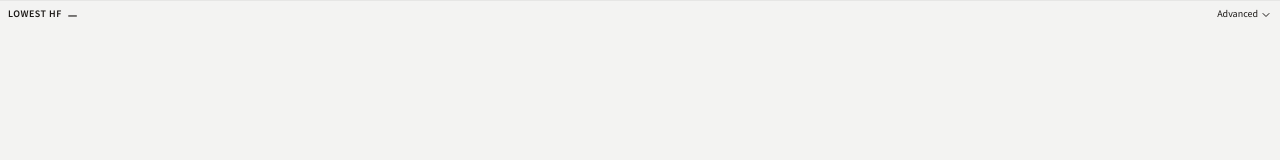
Test: PortfolioSummaryBar — eMode fallback notice (AAV-1399) › B1: shows the base-LTV notice when a pool fell back from a known eMode category
Click the button with test id "portfolio-advanced-toggle".
click(1245, 15)  # box [1217,8,1272,21]
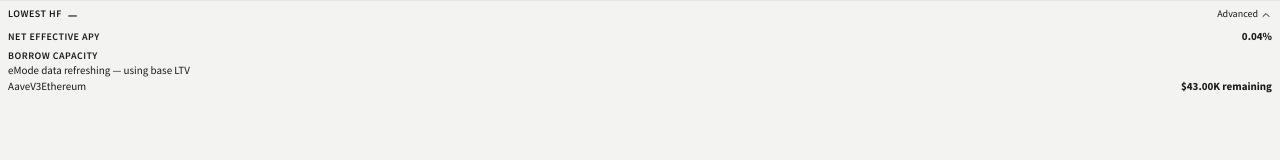
Now the message with test id "emode-fallback-notice" shows "eMode data refreshing", box [8,63,190,77]
Now the message with test id "emode-fallback-notice" shows "base LTV", box [8,63,190,77]
